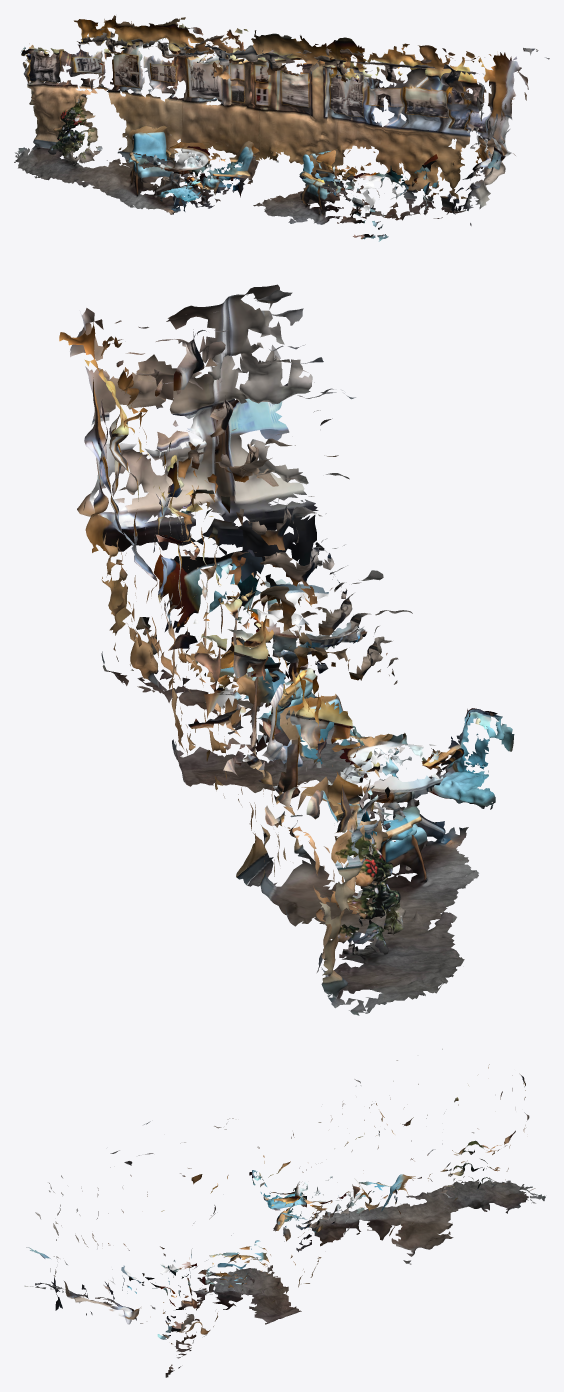
File: 138515-Hall-tex.glb
The picture shows the model from 3 angles, top to bottom: view 1: azimuth 30°, elevation 25°; view 2: azimuth 150°, elevation 25°; view 3: azimuth 270°, elevation 25°; orthographic projection. The views are drawn at different scales.
Parts seen in each view (by area): view 1: Node; view 2: Node; view 3: Node.
Boxes of the visible parts, x1,y1,x2,y2 form: Node: [14, 15, 549, 241]; Node: [59, 284, 514, 1015]; Node: [24, 1049, 545, 1377].
Bounding box in the file's own units: 6.76 × 3.12 × 7.26.
12 materials, 12 textured.
